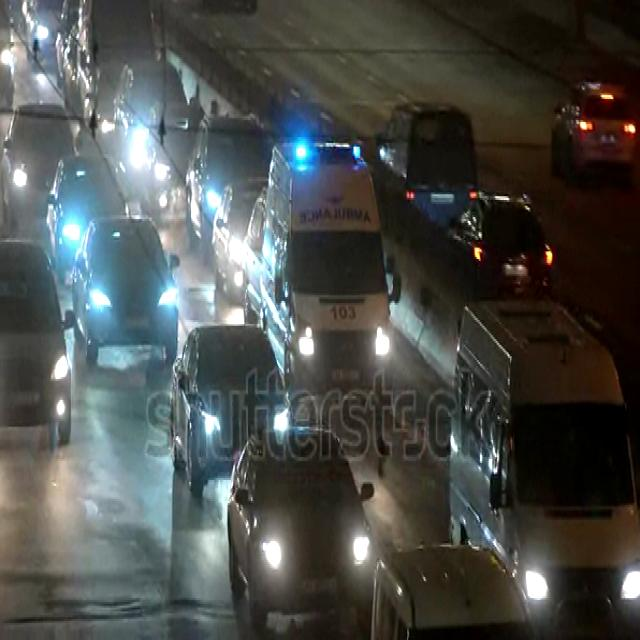ambulance: (261, 139, 399, 411)
